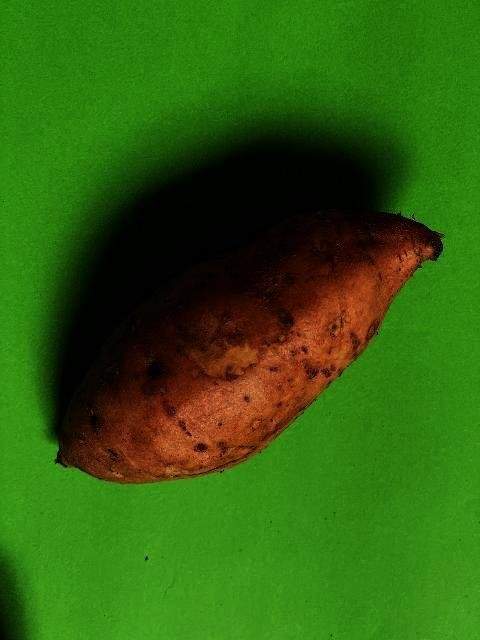sweetpotato: (56, 207, 444, 486)
